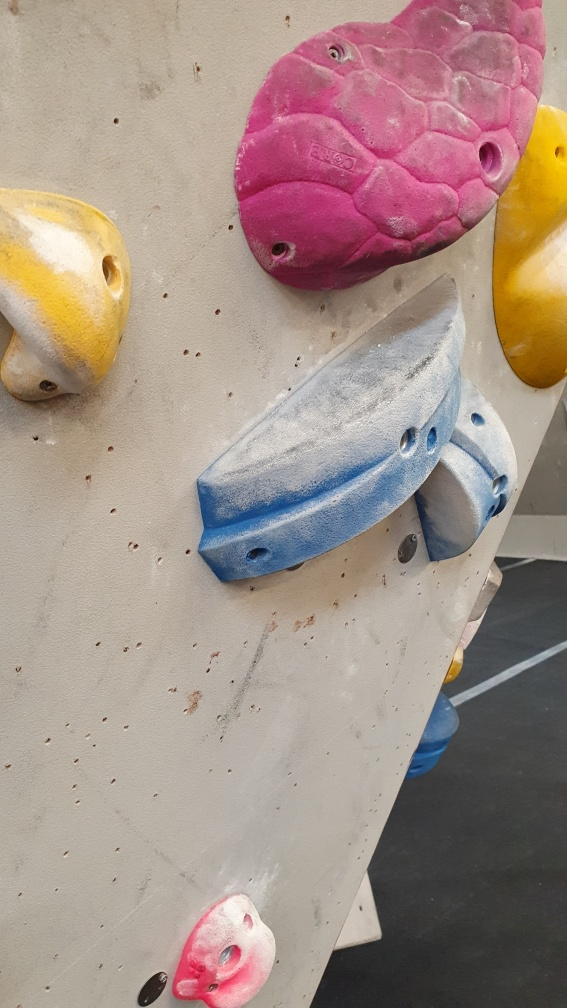Hand Start: (396, 530, 421, 572)
Pinch: (188, 264, 462, 583), (406, 379, 518, 568)
